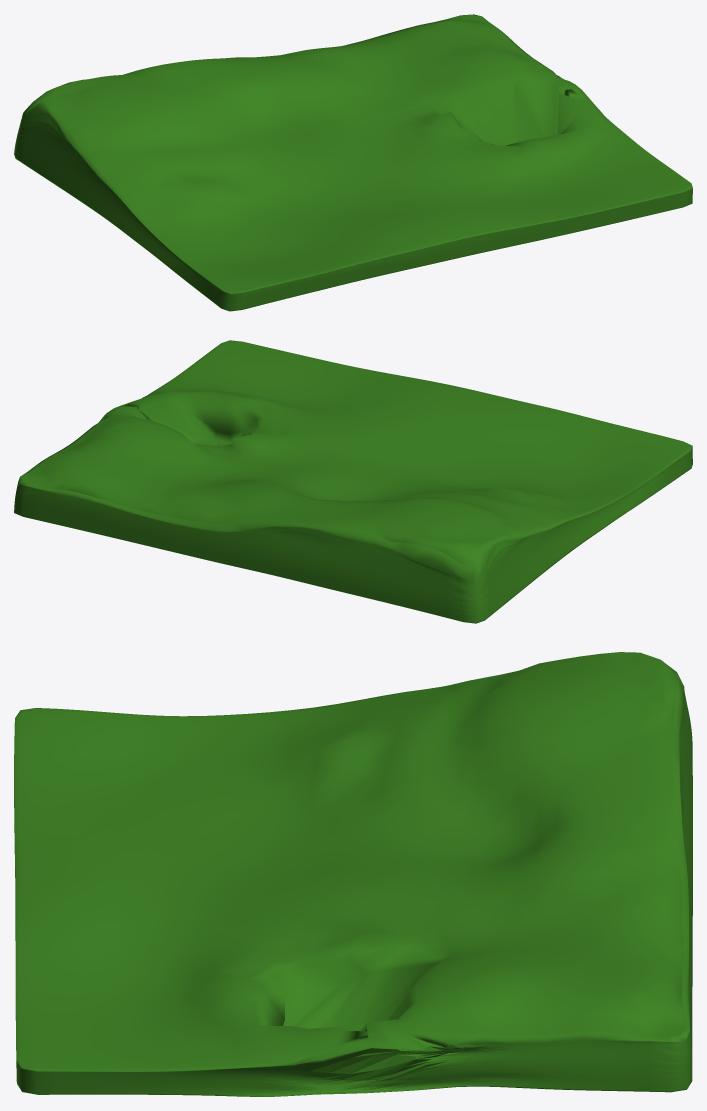
File: ground.glb
The picture shows the model from 3 angles, top to bottom: view 1: azimuth 30°, elevation 25°; view 2: azimuth 150°, elevation 25°; view 3: azimuth 270°, elevation 25°; orthographic projection. The views are drawn at different scales.
Parts seen in each view (by area): view 1: pasted__pasted__pasted__pCube1_pasted__pasted__pasted__phong; view 2: pasted__pasted__pasted__pCube1_pasted__pasted__pasted__phong; view 3: pasted__pasted__pasted__pCube1_pasted__pasted__pasted__phong.
Part boxes in pixels (bbox=[...]): pasted__pasted__pasted__pCube1_pasted__pasted__pasted__phong: bbox=[14, 14, 692, 311]; pasted__pasted__pasted__pCube1_pasted__pasted__pasted__phong: bbox=[14, 340, 692, 623]; pasted__pasted__pasted__pCube1_pasted__pasted__pasted__phong: bbox=[14, 652, 692, 1096].
Size of the model in its own units: 19.87 by 3.27 by 16.15.
